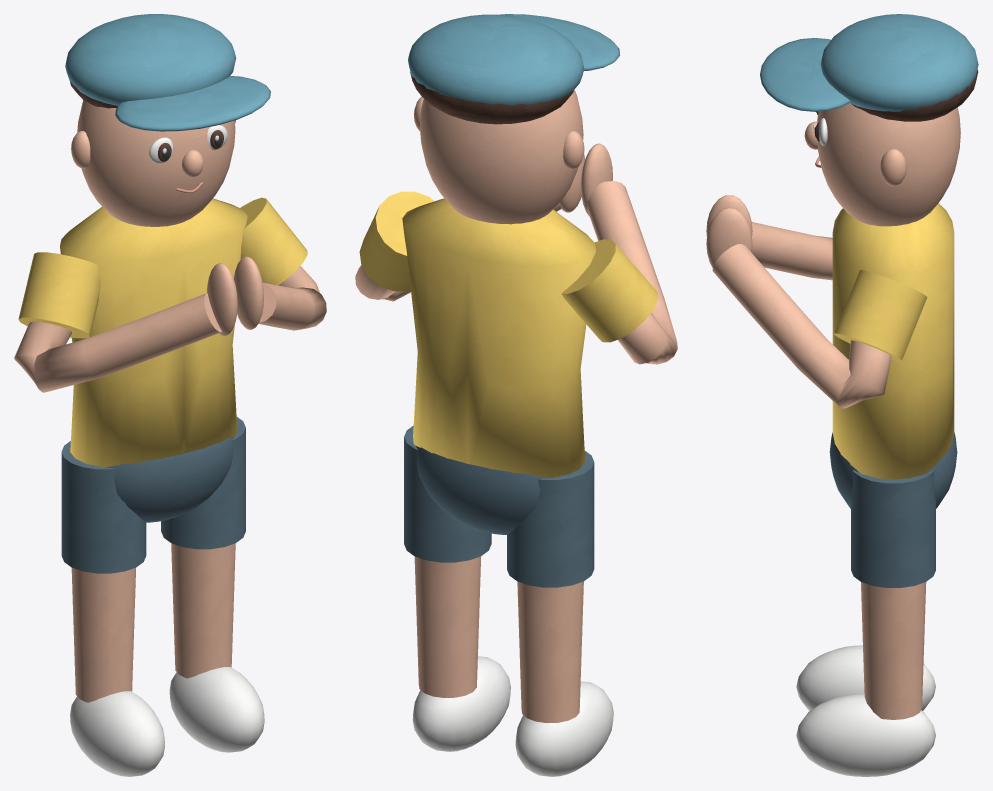
File: spectator_4.glb
3 views of the same model, side by side, from view 1: azimuth 30°, elevation 25°; view 2: azimuth 150°, elevation 25°; view 3: azimuth 270°, elevation 25° (orthographic). The views are drawn at different scales.
Parts seen in each view (by area): view 1: spectator_4; view 2: spectator_4; view 3: spectator_4.
Part boxes in pixels (x1,y1,x2,y2): spectator_4: (14, 14, 326, 776); spectator_4: (355, 14, 677, 776); spectator_4: (706, 14, 978, 776).
Bounding box in the file's own units: 0.5681 × 1.31 × 0.448.
1 material, 1 textured.
